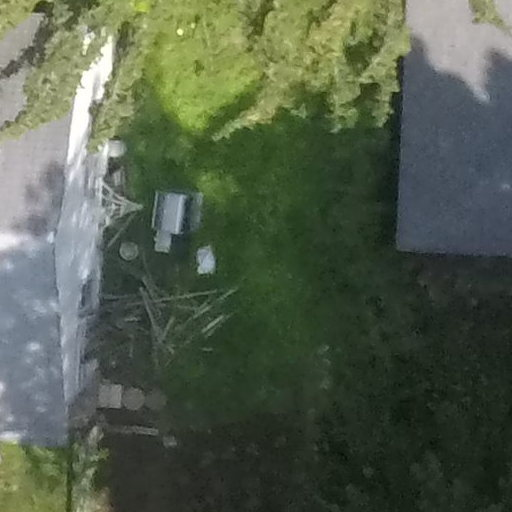container: (121, 384, 152, 415), (116, 239, 142, 262)
